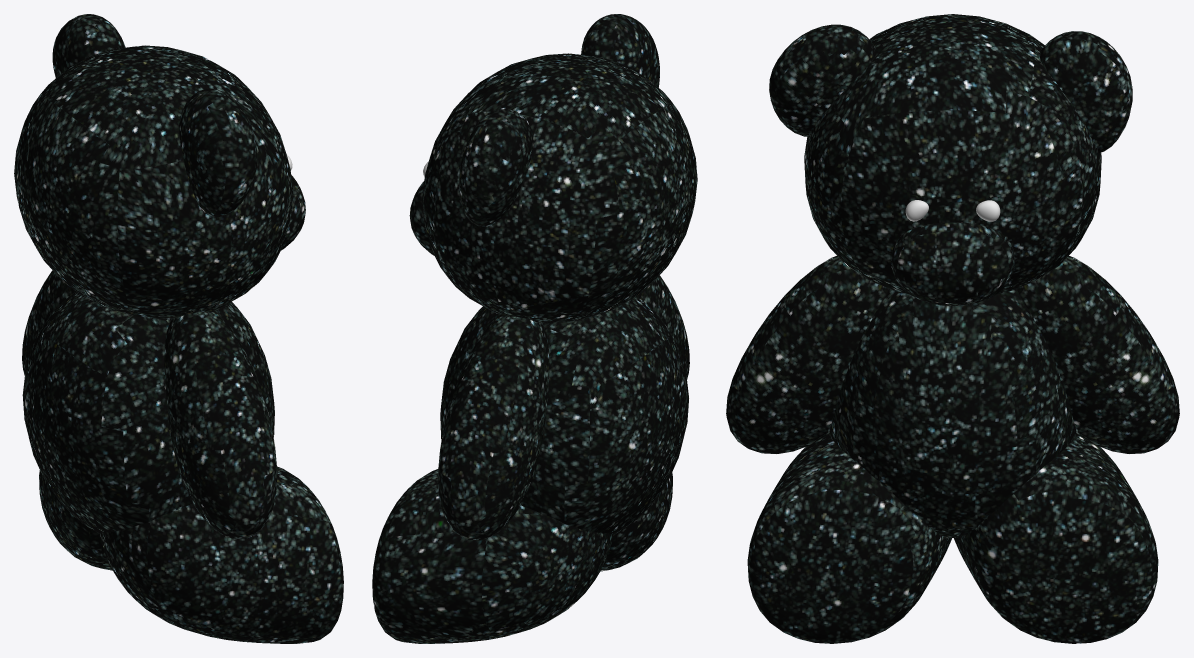
Rendered from teady.fbx.
3 views of the same model, side by side, from view 1: azimuth 30°, elevation 25°; view 2: azimuth 150°, elevation 25°; view 3: azimuth 270°, elevation 25° (orthographic). The views are drawn at different scales.
Visible parts, largest first — view 1: Face_Baked, Body_Baked, Legs_Baked, Hands_Baked.002, Ear L_Baked, Ear R_Baked, Hands_Baked.001, Mouth_Baked; view 2: Face_Baked, Body_Baked, Legs_Baked, Hands_Baked.001, Ear R_Baked, Ear L_Baked, Hands_Baked.002, Mouth_Baked; view 3: Face_Baked, Legs_Baked, Body_Baked, Hands_Baked.002, Hands_Baked.001, Mouth_Baked, Ear L_Baked, Ear R_Baked, Eyes_Baked.
Boxes of the visible parts, bbox=[...] form: Face_Baked: bbox=[14, 45, 293, 318]; Body_Baked: bbox=[22, 291, 274, 533]; Legs_Baked: bbox=[39, 466, 343, 643]; Hands_Baked.002: bbox=[164, 310, 276, 538]; Ear L_Baked: bbox=[179, 88, 257, 216]; Ear R_Baked: bbox=[52, 14, 125, 77]; Hands_Baked.001: bbox=[22, 270, 75, 375]; Mouth_Baked: bbox=[281, 175, 305, 250]; Face_Baked: bbox=[422, 53, 697, 322]; Body_Baked: bbox=[440, 296, 688, 535]; Legs_Baked: bbox=[372, 469, 672, 643]; Hands_Baked.001: bbox=[438, 314, 549, 539]; Ear R_Baked: bbox=[459, 109, 533, 226]; Ear L_Baked: bbox=[581, 14, 659, 87]; Hands_Baked.002: bbox=[636, 275, 689, 379]; Mouth_Baked: bbox=[409, 181, 434, 255]; Face_Baked: bbox=[804, 14, 1101, 293]; Legs_Baked: bbox=[747, 434, 1158, 643]; Body_Baked: bbox=[828, 289, 1077, 537]; Hands_Baked.002: bbox=[726, 256, 888, 453]; Hands_Baked.001: bbox=[1017, 256, 1179, 453]; Mouth_Baked: bbox=[891, 222, 1014, 306]; Ear L_Baked: bbox=[769, 24, 876, 136]; Ear R_Baked: bbox=[1039, 31, 1132, 152]; Eyes_Baked: bbox=[905, 200, 1000, 221].
Size of the model in its own units: 51.34 by 107 by 75.93.
